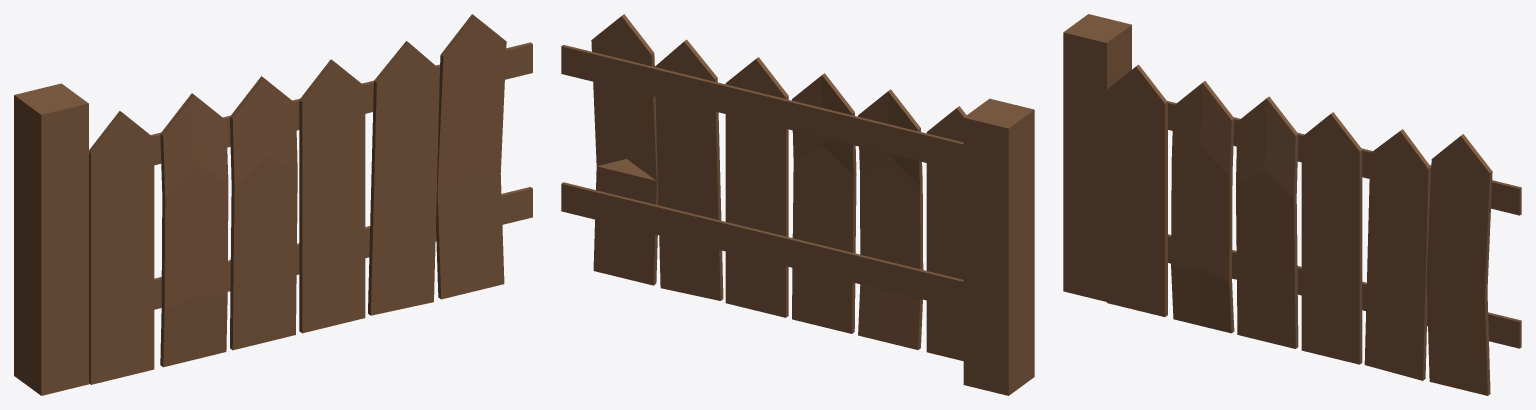
Rendered from Wood_Fence_1.fbx.
The picture shows the model from 3 angles, left to right: view 1: azimuth 30°, elevation 25°; view 2: azimuth 150°, elevation 25°; view 3: azimuth 330°, elevation 25°; orthographic projection. The views are drawn at different scales.
Visible parts, largest first — view 1: Wood_Fence_1; view 2: Wood_Fence_1; view 3: Wood_Fence_1.
Part boxes in pixels (left/top/right/bottom): Wood_Fence_1: left=14, top=14, right=532, bottom=395; Wood_Fence_1: left=561, top=14, right=1034, bottom=395; Wood_Fence_1: left=1063, top=14, right=1521, bottom=395.
Size of the model in its own units: 410 by 224 by 43.75.
